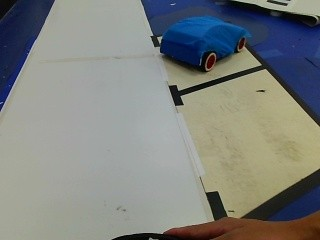car: (158, 15, 247, 73)
